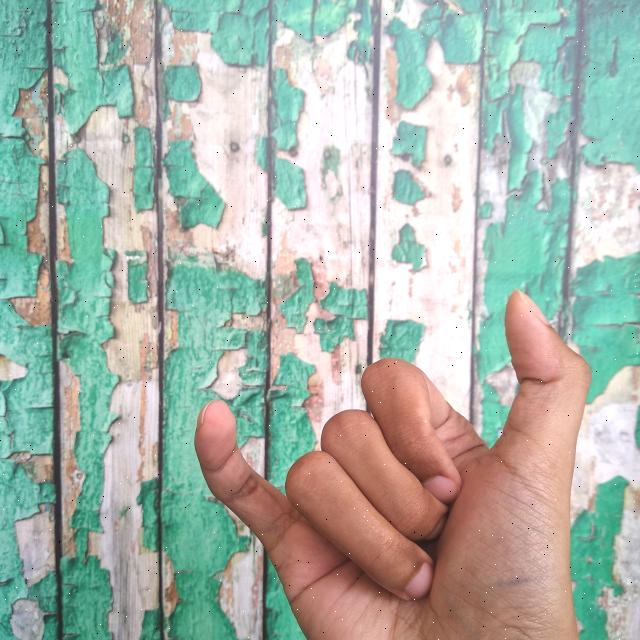Y: (183, 280, 595, 640)
